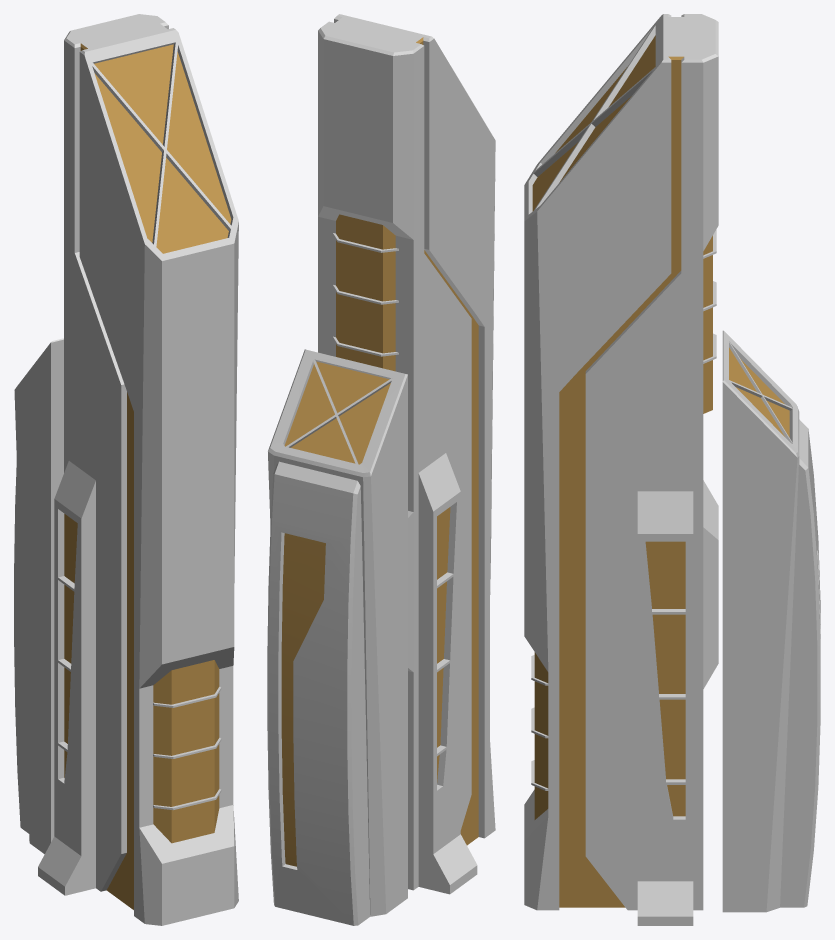
The model's file is Skyscraper6.glb.
The picture shows the model from 3 angles, left to right: view 1: azimuth 30°, elevation 25°; view 2: azimuth 150°, elevation 25°; view 3: azimuth 270°, elevation 25°; orthographic projection. The views are drawn at different scales.
Parts seen in each view (by area): view 1: Cube.013; view 2: Cube.013; view 3: Cube.013.
Part boxes in pixels (x1,y1,x2,y2): Cube.013: [14, 14, 238, 925]; Cube.013: [267, 14, 495, 925]; Cube.013: [524, 14, 820, 925].
Size of the model in its own units: 18.68 by 94.6 by 29.91.
